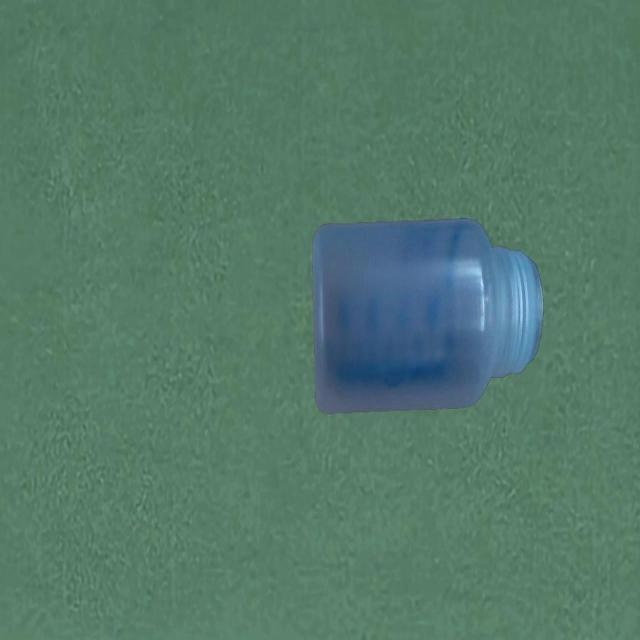bottle: (310, 218, 542, 416)
